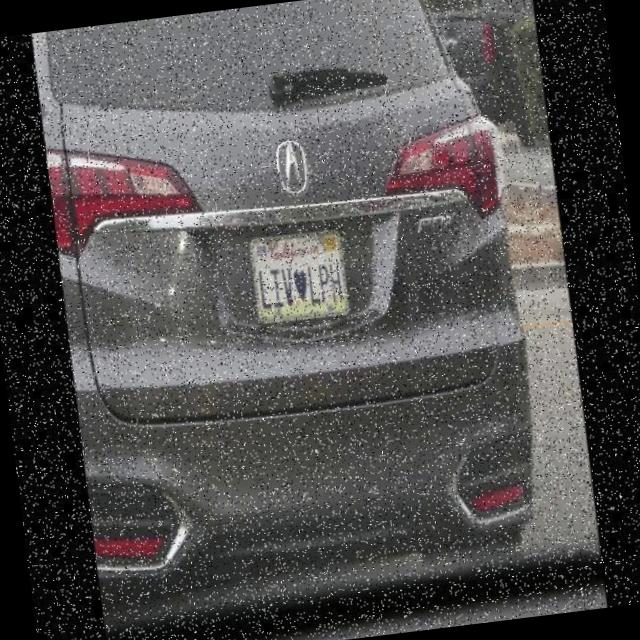LicensePlate: (241, 212, 361, 341)
